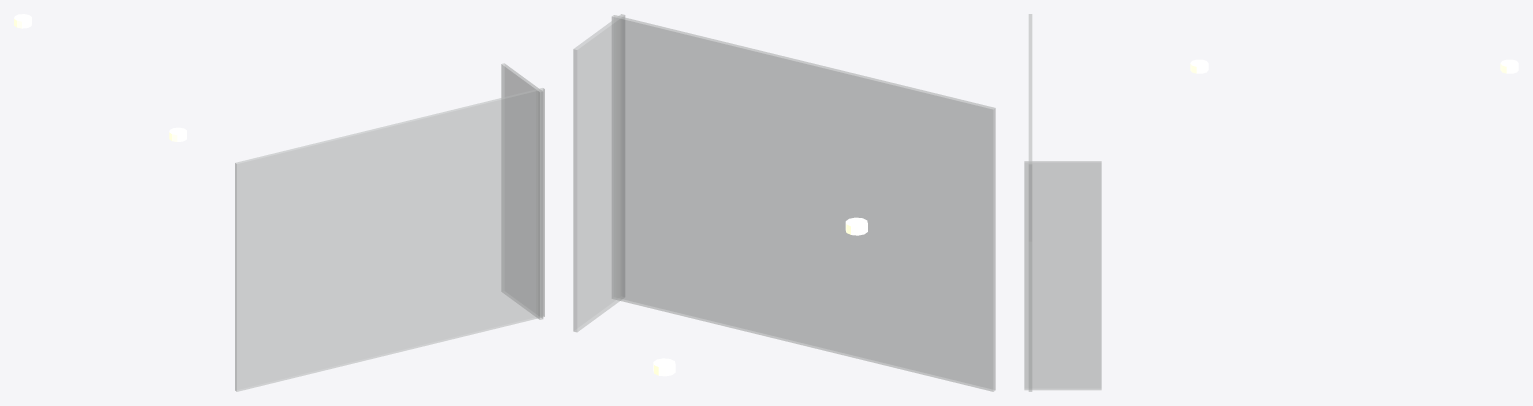
Rendered from room-event-fixtures.gltf.
3 renders of one model, left to right at view 1: azimuth 30°, elevation 25°; view 2: azimuth 150°, elevation 25°; view 3: azimuth 270°, elevation 25°, orthographic. The views are drawn at different scales.
Visible parts, largest first — view 1: room-event.baked.glass.001, room-event.baked.glow.001; view 2: room-event.baked.glass.001, room-event.baked.glow.001; view 3: room-event.baked.glass.001, room-event.baked.glow.001.
Part boxes in pixels (left/top/right/bottom): room-event.baked.glass.001: left=235, top=63, right=544, bottom=391; room-event.baked.glow.001: left=14, top=14, right=186, bottom=141; room-event.baked.glass.001: left=573, top=14, right=995, bottom=391; room-event.baked.glow.001: left=653, top=217, right=867, bottom=376; room-event.baked.glass.001: left=1024, top=14, right=1101, bottom=391; room-event.baked.glow.001: left=1190, top=59, right=1518, bottom=73.
Bounding box in the file's own units: 1.15 × 0.81 × 1.59.
